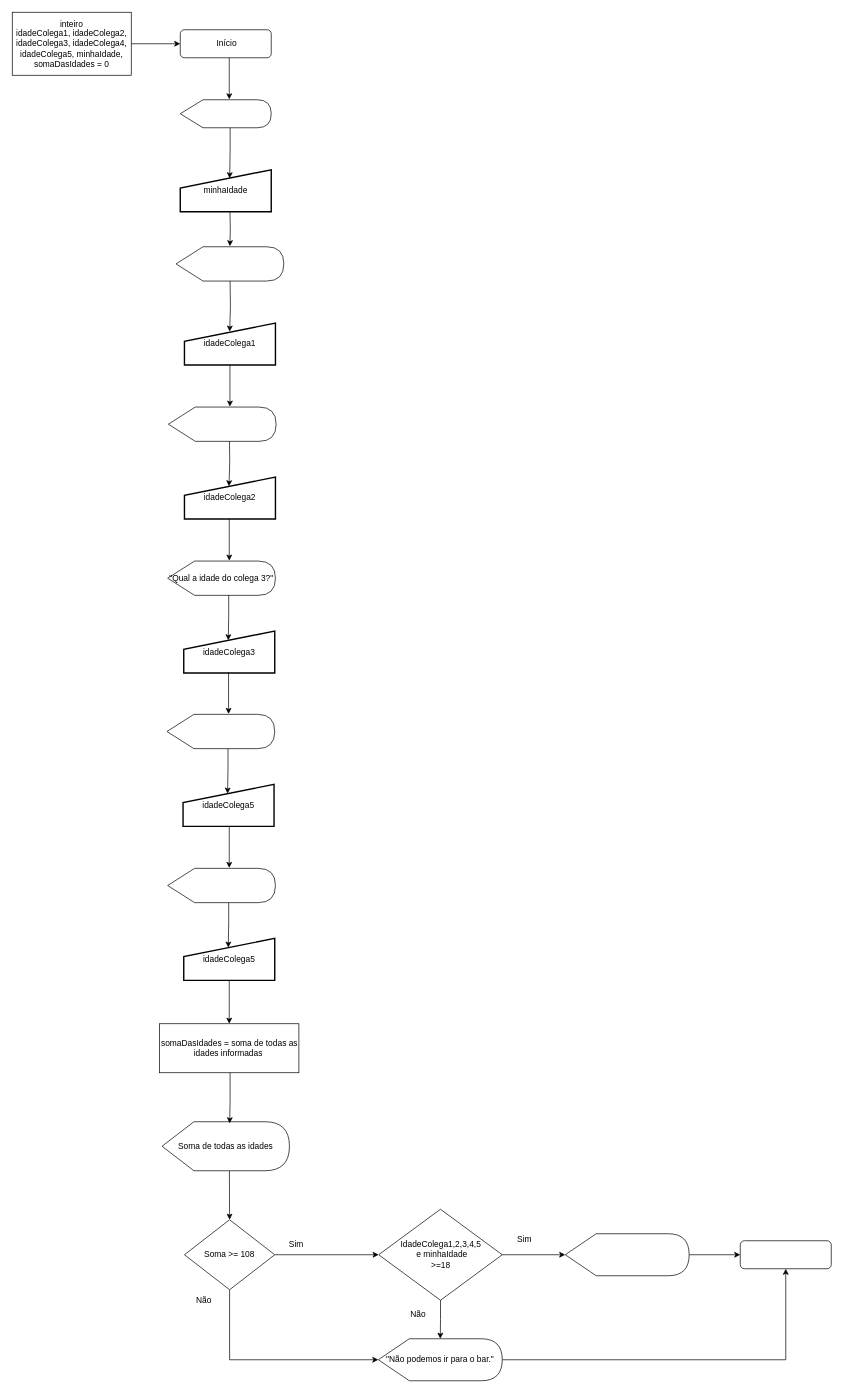
Image size: 844x1393. Some labels were removed from this diagram. Here are the shapes that lost their labels. From the top down, the centre of each, then its label:
the point at 225,113: "Qual a sua idade?"
the point at 229,263: "Qual a idade do colega 1?"
the point at 222,423: "Qual a idade do colega 2?"
the point at 220,731: "Qual a idade do colega 4 ?"
the point at 221,885: "Qual a idade do colega 5 ?"
the point at 627,1254: "Podemos ir para o bar."
the point at 785,1254: Fim do algoritmo
